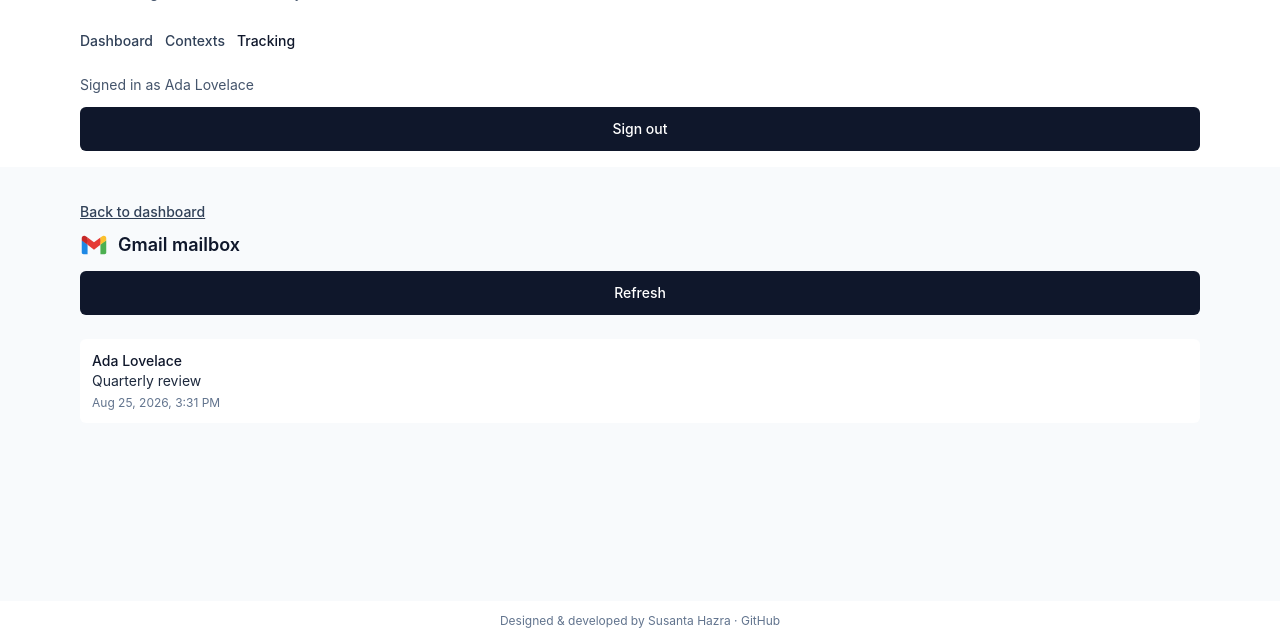
it: analysis result › shows a neutral empty state when no action items are returned
Click the button "Ada Lovelace Quarterly review Aug 25, 2026, 3:31 PM" at (137, 360), box [80,339,1200,423]
(page scrolled)
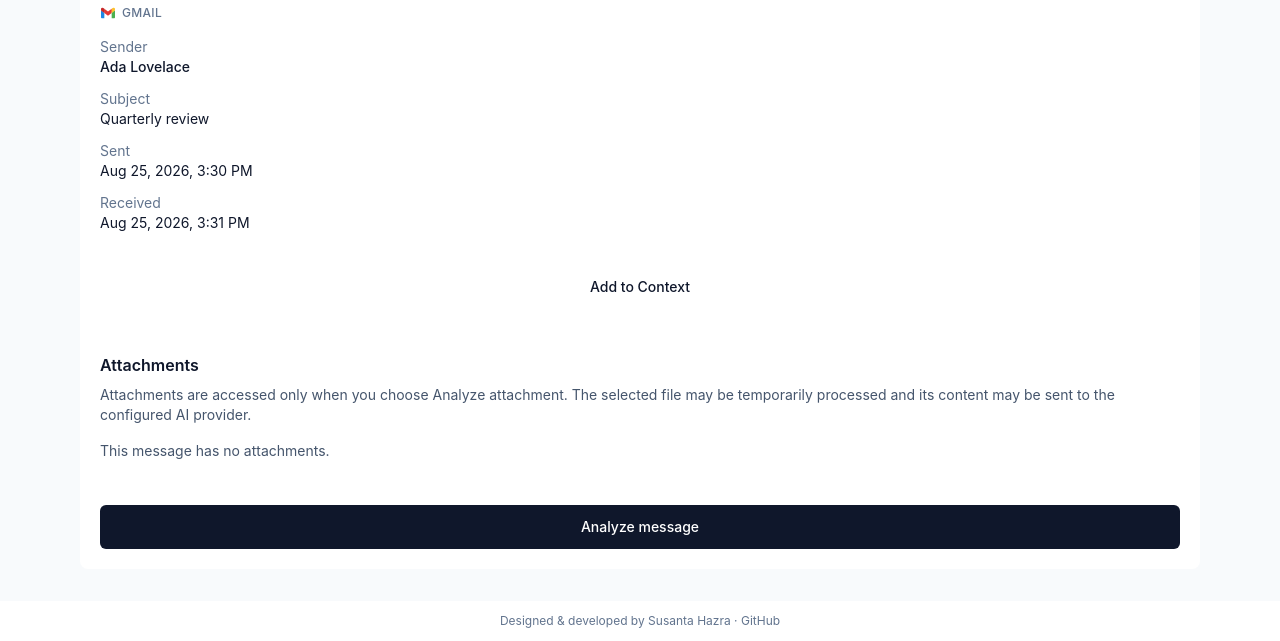
Click the button "Analyze message" at (640, 527), box [100,505,1180,549]
(page scrolled)
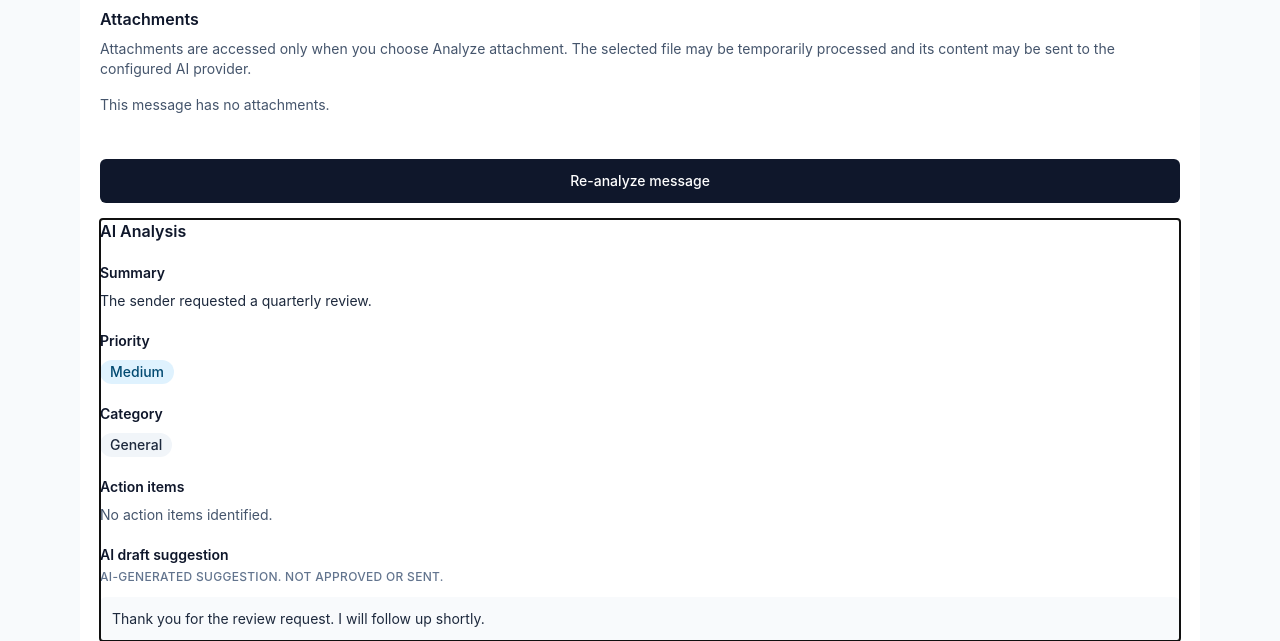
Expected: the text "No action items identified." is shown, [100,506,273,523]
